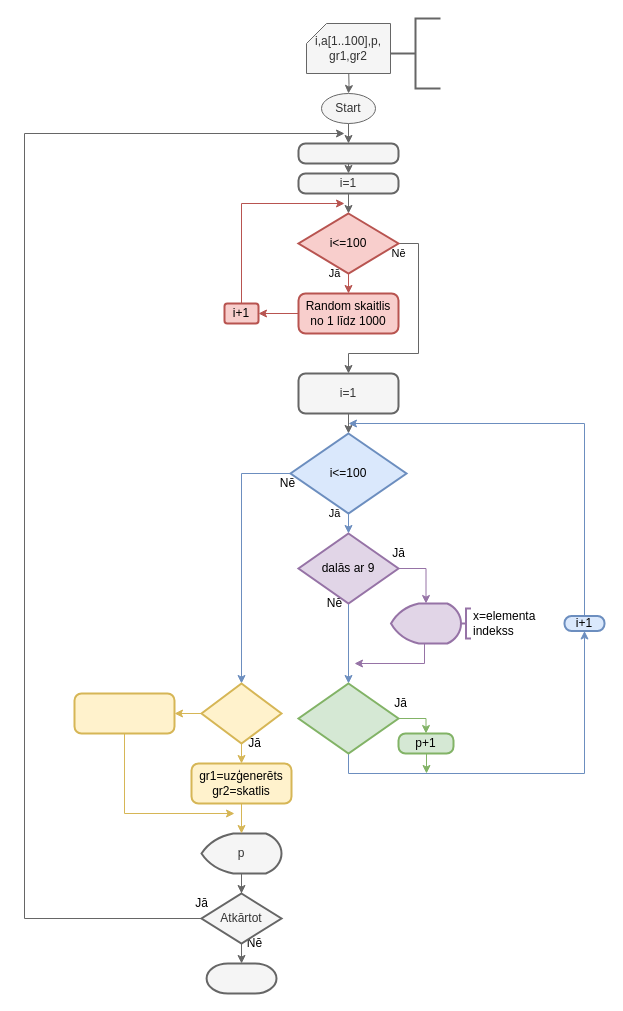
The diagram is 623 pixels wide and 1011 high, and some of its shapes have lost their labels. Each missing label, with the centre of its shape:
a[x]: (426,623)
Beigas: (241,978)
gr1=uzģenerēti gr2=skatļi: (124,713)
i=priekš loop a[1..100]=masīvs p=skaitļa pāru skaits gr1,gr2=pareizie locījumi.: (415,53)
mod 2 = 0: (348,718)
p=0: (348,153)
p=1: (241,713)
